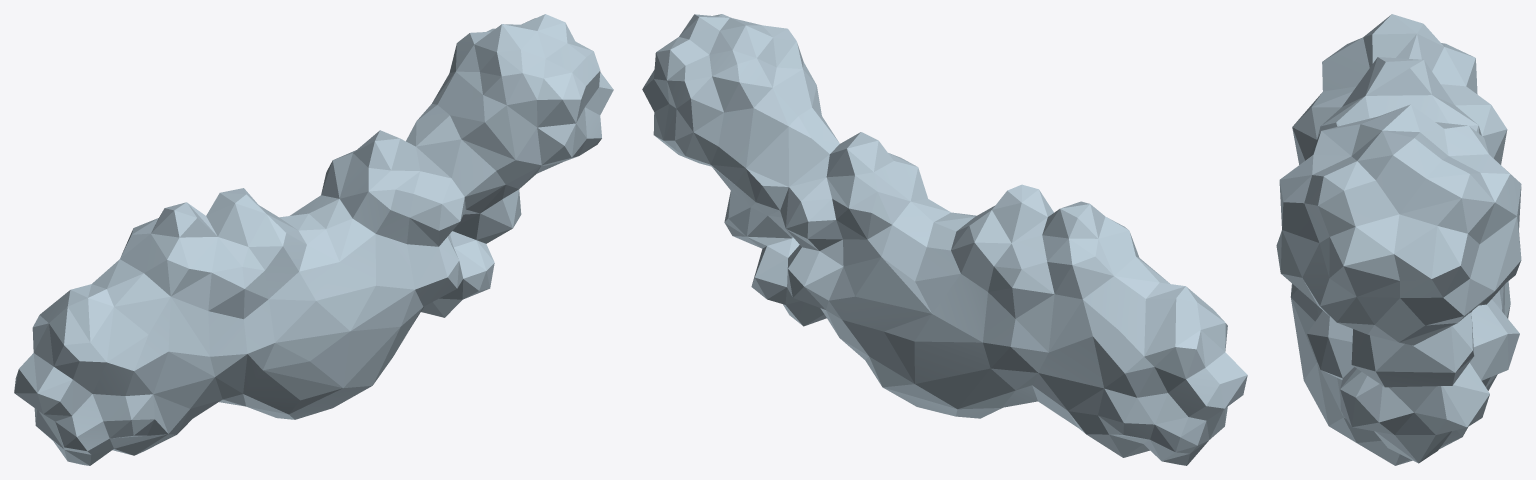
File: stylize_cloud_7.fbx
3 views of the same model, side by side, from view 1: azimuth 30°, elevation 25°; view 2: azimuth 150°, elevation 25°; view 3: azimuth 270°, elevation 25° (orthographic). The views are drawn at different scales.
Visible parts, largest first — view 1: cloud_87; view 2: cloud_87; view 3: cloud_87.
Boxes of the visible parts, <box> form: cloud_87: <box>14,14,613,465</box>; cloud_87: <box>642,14,1247,465</box>; cloud_87: <box>1276,14,1521,465</box>.
Bounding box in the file's own units: 695 × 389 × 180.
